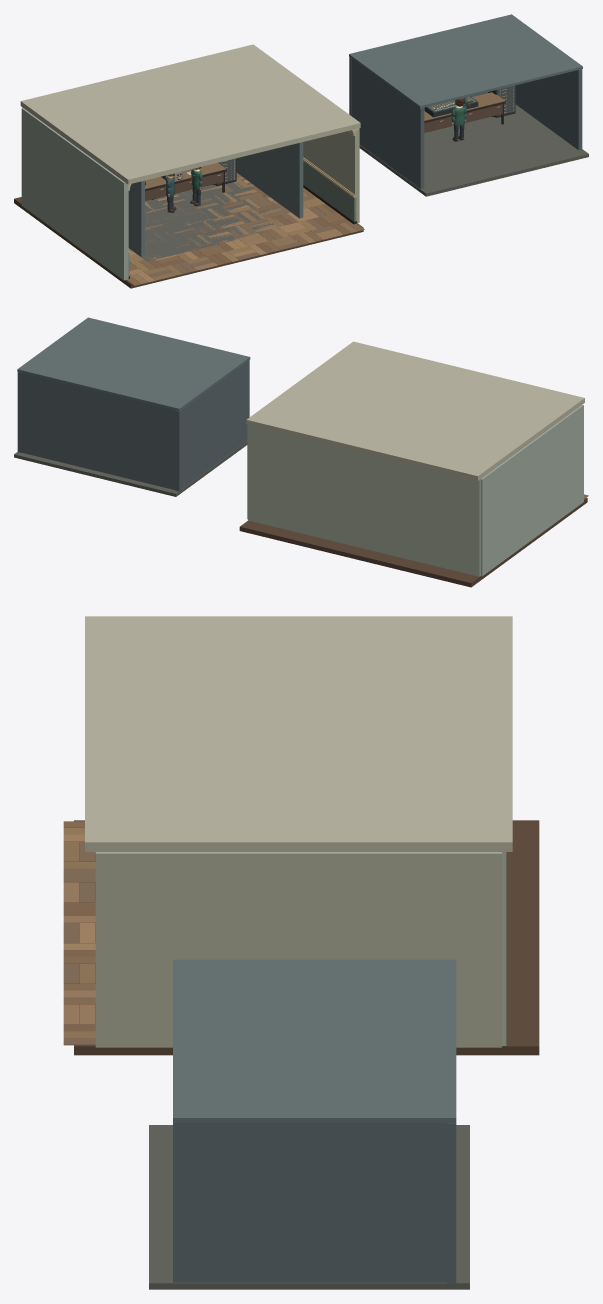
Rendered from music.glb.
The picture shows the model from 3 angles, top to bottom: view 1: azimuth 30°, elevation 25°; view 2: azimuth 150°, elevation 25°; view 3: azimuth 270°, elevation 25°; orthographic projection. The views are drawn at different scales.
Visible parts, largest first — view 1: Ballroom ceiling, Studioceiling, Ballroom west wall, Studiofloor, Boothfloor, Studioside, Studioside.001, Boothside.001, Ballroom east wall, Side millwork.003, Boothside, music floor base (+4 smaller); view 2: Ballroom ceiling, Ballroom north wall, Studiorear, Studioceiling, Ballroom west wall, Studioside, music floor base, Studiofloor, Studioside.001; view 3: Ballroom ceiling, Ballroom east wall, Studioceiling, Studioside.001, music floor base, Studiofloor, Studiorear, Ballroom north wall.
Boxes of the visible parts, bbox=[...] form: Ballroom ceiling: bbox=[20, 44, 360, 184]; Studioceiling: bbox=[349, 14, 582, 108]; Ballroom west wall: bbox=[21, 108, 128, 280]; Studiofloor: bbox=[359, 104, 588, 196]; Boothfloor: bbox=[129, 175, 307, 261]; Studioside: bbox=[351, 59, 424, 188]; Studioside.001: bbox=[515, 69, 582, 150]; Boothside.001: bbox=[236, 142, 303, 218]; Ballroom east wall: bbox=[303, 128, 359, 223]; Side millwork.003: bbox=[303, 161, 356, 221]; Boothside: bbox=[128, 180, 144, 256]; music floor base: bbox=[14, 197, 363, 288]; Ballroom ceiling: bbox=[246, 341, 584, 480]; Ballroom north wall: bbox=[248, 425, 480, 576]; Studiorear: bbox=[21, 373, 181, 491]; Studioceiling: bbox=[17, 317, 250, 411]; Ballroom west wall: bbox=[480, 405, 583, 576]; Studioside: bbox=[175, 360, 249, 491]; music floor base: bbox=[239, 498, 587, 587]; Studiofloor: bbox=[14, 441, 247, 496]; Studioside.001: bbox=[17, 372, 21, 452]; Ballroom ceiling: bbox=[85, 616, 512, 851]; Ballroom east wall: bbox=[95, 852, 501, 1047]; Studioceiling: bbox=[173, 959, 456, 1122]; Studioside.001: bbox=[173, 1123, 456, 1282]; music floor base: bbox=[74, 820, 539, 1055]; Studiofloor: bbox=[149, 1125, 469, 1289]; Studiorear: bbox=[447, 1123, 455, 1283]; Ballroom north wall: bbox=[502, 852, 506, 1045].
Size of the model in its own units: 20.57 by 4.39 by 8.9.
